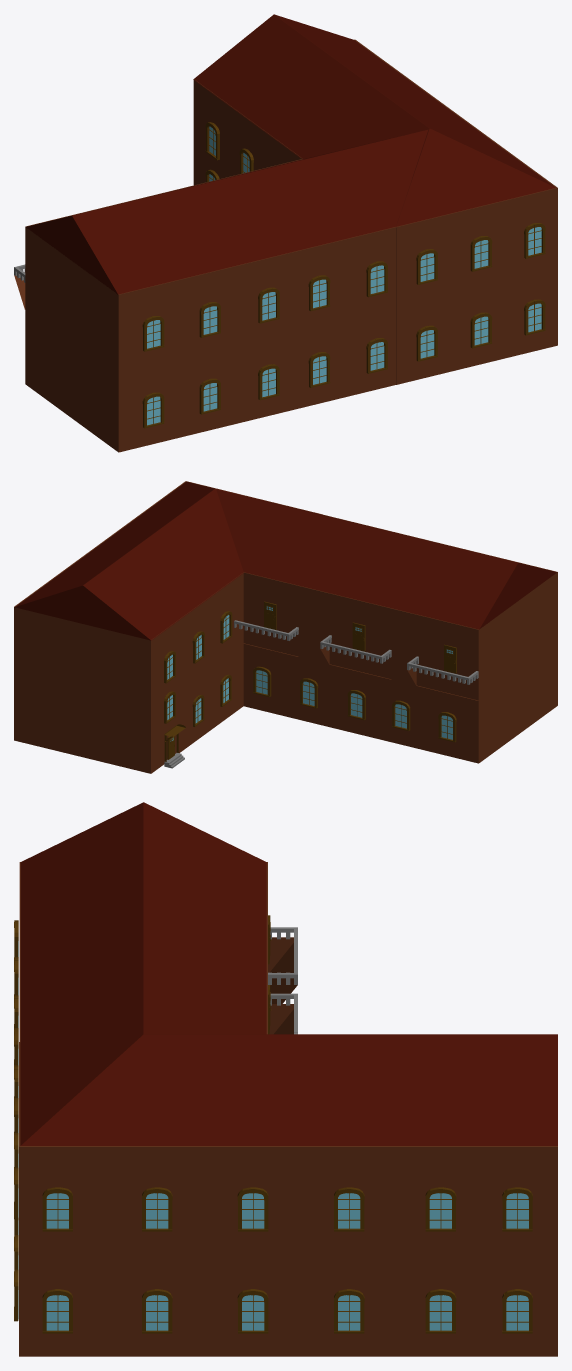
File: naroznik 1.fbx
The picture shows the model from 3 angles, top to bottom: view 1: azimuth 30°, elevation 25°; view 2: azimuth 150°, elevation 25°; view 3: azimuth 270°, elevation 25°; orthographic projection. The views are drawn at different scales.
Parts seen in each view (by area): view 1: Cube.002, Cube.003, Cube.086, Cube.087, Cube.101, Cube.097, Cube.088, Cube.100, Cube.090, Cube.096, Cube.093, Cube.102 (+6 smaller); view 2: Cube.002, Cube.003, Cube.108, Cube.084, Cube.116, Cube.117, Cube.120, Cube.119, Cube.118, Cube.115, Cube.001; view 3: Cube.003, Cube.002, Cube.115, Cube.074, Cube.071, Cube.081, Cube.077, Cube.072, Cube.070, Cube.073, Cube.075, Cube.080 (+4 smaller).
Boxes of the visible parts, x1,y1,x2,y2 form: Cube.002: [25, 39, 557, 452]; Cube.003: [26, 14, 555, 294]; Cube.086: [524, 299, 545, 335]; Cube.087: [470, 312, 492, 348]; Cube.101: [142, 392, 164, 428]; Cube.097: [258, 287, 279, 323]; Cube.088: [470, 236, 492, 271]; Cube.100: [199, 378, 220, 414]; Cube.090: [416, 325, 437, 361]; Cube.096: [258, 364, 279, 400]; Cube.093: [366, 261, 387, 297]; Cube.102: [142, 316, 164, 351]; Cube.002: [14, 481, 557, 773]; Cube.003: [15, 481, 557, 640]; Cube.108: [234, 620, 478, 684]; Cube.084: [164, 724, 185, 768]; Cube.116: [392, 700, 410, 731]; Cube.117: [438, 712, 456, 742]; Cube.120: [253, 666, 271, 697]; Cube.119: [300, 678, 318, 708]; Cube.118: [347, 690, 365, 720]; Cube.115: [243, 643, 478, 700]; Cube.001: [352, 622, 365, 651]; Cube.003: [20, 802, 557, 1145]; Cube.002: [19, 862, 557, 1356]; Cube.115: [268, 937, 297, 1034]; Cube.074: [425, 1289, 456, 1333]; Cube.071: [237, 1289, 268, 1333]; Cube.081: [237, 1187, 268, 1231]; Cube.077: [425, 1187, 456, 1231]; Cube.072: [42, 1289, 72, 1333]; Cube.070: [334, 1289, 364, 1333]; Cube.073: [142, 1289, 172, 1333]; Cube.075: [502, 1289, 532, 1333]; Cube.080: [42, 1187, 72, 1231].
Size of the model in its own units: 888 by 388 by 709.
Materials: 134 (134 with a texture image).
